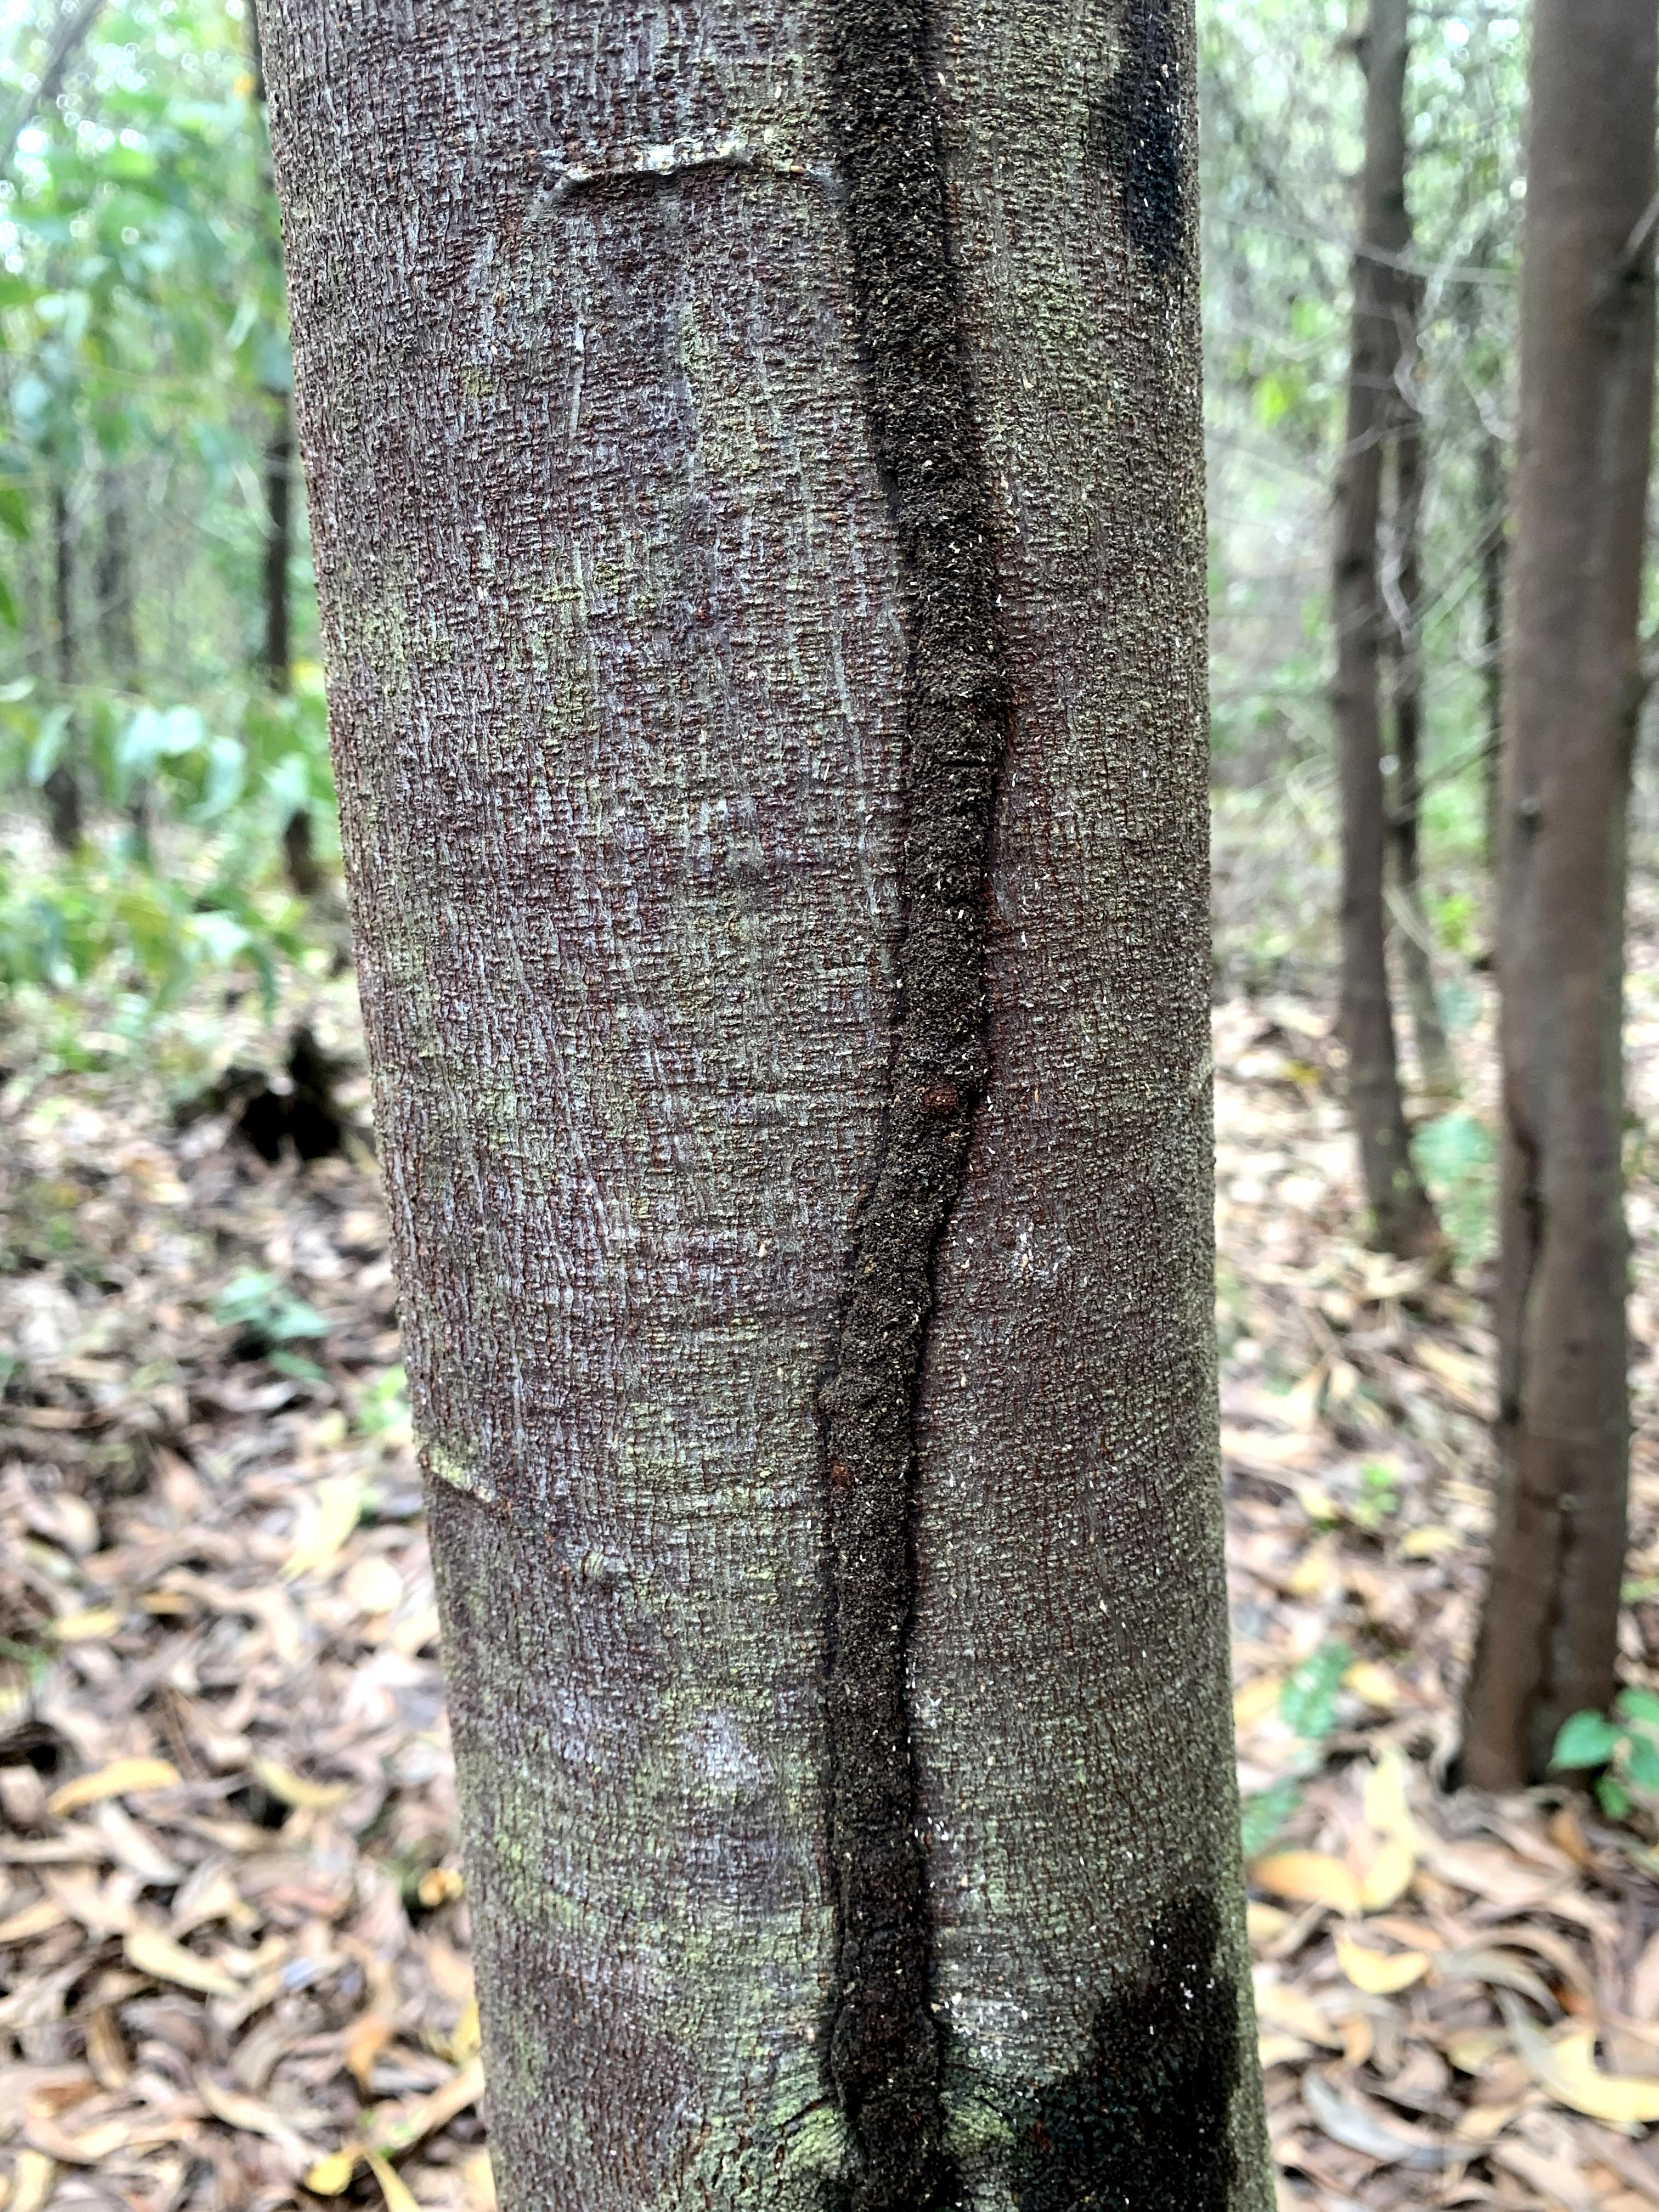Termite - Nest: (753, 0, 1042, 2212)
